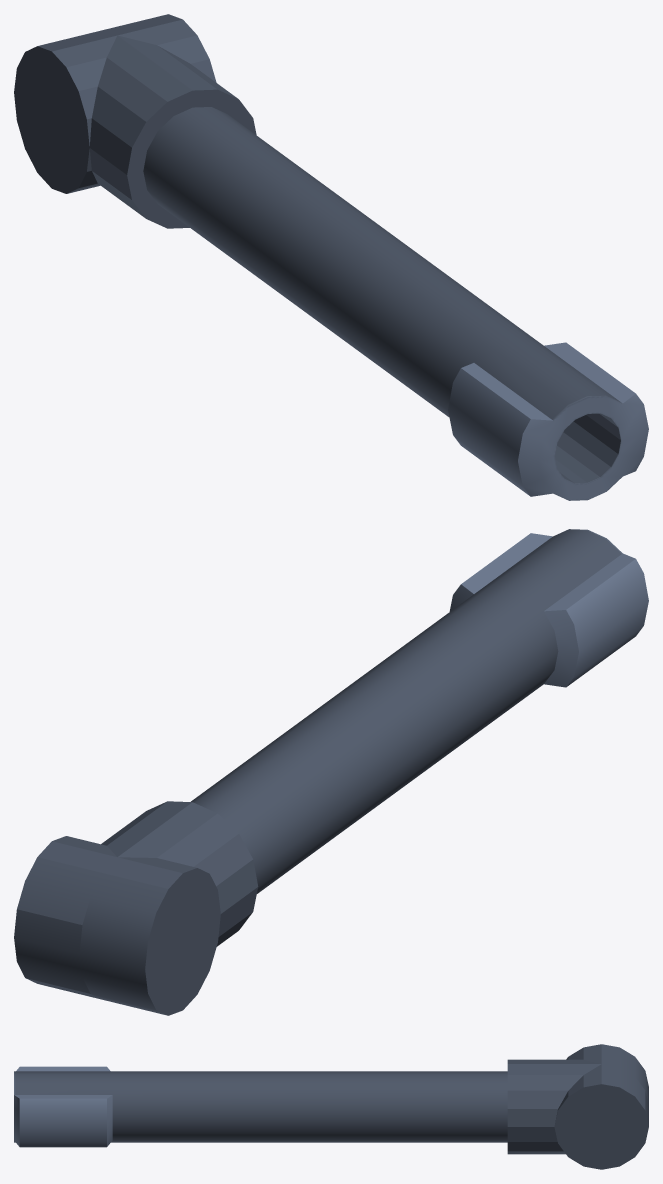
File: TankWeapon_Cannon.fbx
The picture shows the model from 3 angles, top to bottom: view 1: azimuth 30°, elevation 25°; view 2: azimuth 150°, elevation 25°; view 3: azimuth 270°, elevation 25°; orthographic projection. The views are drawn at different scales.
Visible parts, largest first — view 1: Cannon; view 2: Cannon; view 3: Cannon.
Part boxes in pixels (<box>): Cannon: <box>14,14,648,500</box>; Cannon: <box>14,529,648,1015</box>; Cannon: <box>14,1044,648,1169</box>.
Bounding box in the file's own units: 8.23 × 8.23 × 55.27.
